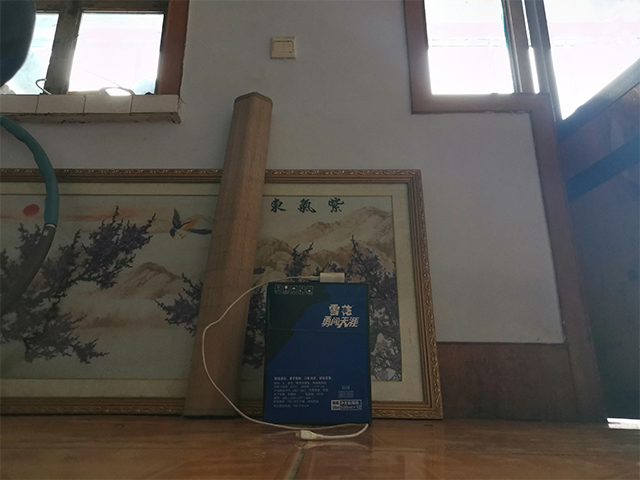wire: (198, 270, 370, 442)
